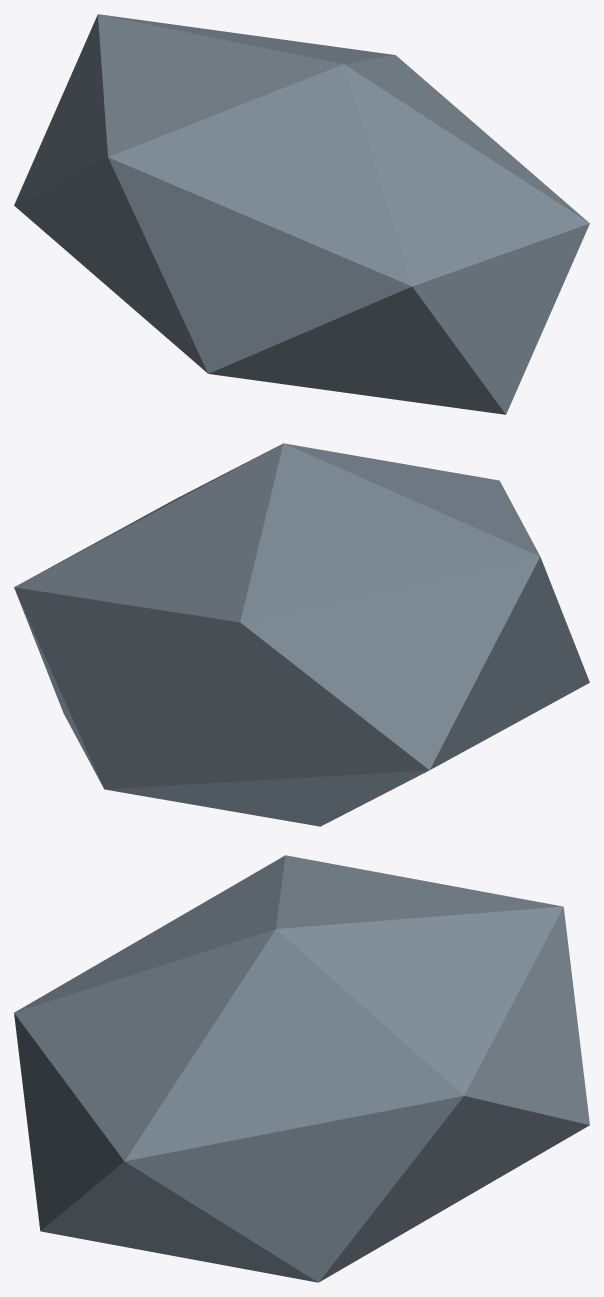
File: INT_B_WallRubble_02_Stone_3.glb
3 views of the same model, one above another, from view 1: azimuth 30°, elevation 25°; view 2: azimuth 150°, elevation 25°; view 3: azimuth 270°, elevation 25° (orthographic). The views are drawn at different scales.
Parts seen in each view (by area): view 1: INT_B_WallRubble_02_Stone_3; view 2: INT_B_WallRubble_02_Stone_3; view 3: INT_B_WallRubble_02_Stone_3.
Part boxes in pixels (<box>): INT_B_WallRubble_02_Stone_3: <box>14,14,589,414</box>; INT_B_WallRubble_02_Stone_3: <box>14,443,589,826</box>; INT_B_WallRubble_02_Stone_3: <box>14,855,589,1282</box>.
Size of the model in its own units: 0.2581 by 0.1862 by 0.3148.
